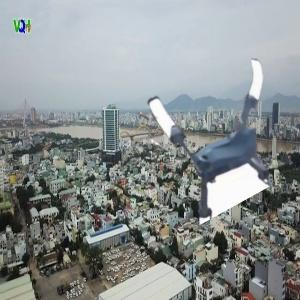drone: (155, 60, 298, 203)
